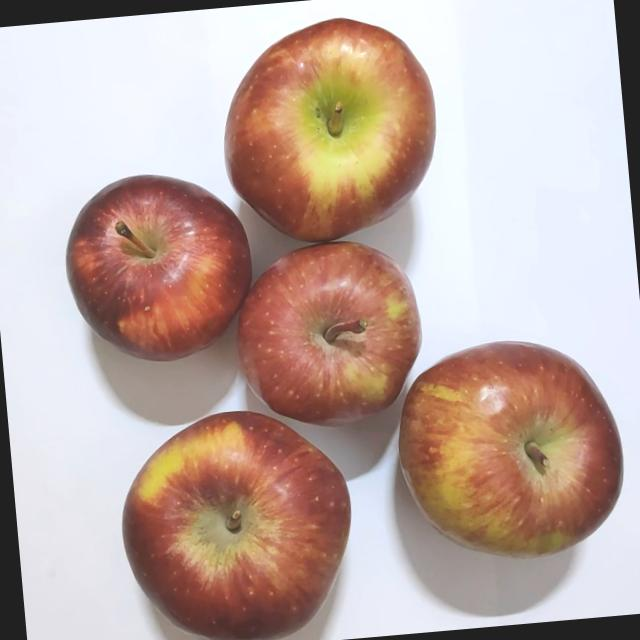apple: (115, 392, 367, 640), (381, 326, 628, 573), (214, 28, 448, 270), (66, 174, 264, 378), (232, 242, 428, 438)
